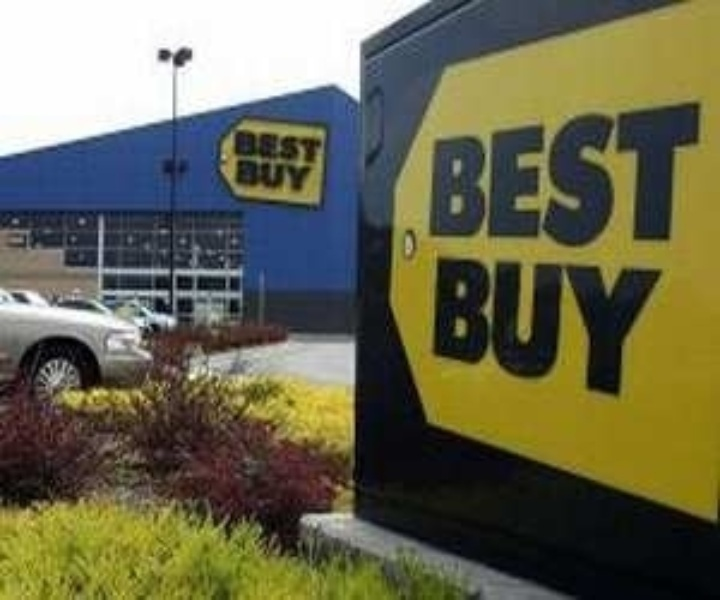text: (433, 97, 448, 253), (449, 97, 464, 253), (465, 97, 480, 253), (481, 97, 496, 253), (497, 97, 512, 253), (513, 97, 528, 253), (529, 97, 544, 253), (545, 97, 560, 253), (561, 97, 576, 253), (577, 97, 592, 253), (593, 97, 608, 253), (609, 97, 624, 253), (625, 97, 640, 253), (641, 97, 656, 253), (657, 97, 672, 253), (673, 97, 688, 253), (449, 253, 464, 401), (465, 253, 480, 401), (481, 253, 496, 401), (497, 253, 512, 401), (513, 253, 528, 401), (529, 253, 544, 401), (545, 253, 560, 401), (561, 253, 576, 401), (577, 253, 592, 401), (593, 253, 608, 401), (609, 253, 624, 401), (625, 253, 640, 401), (641, 253, 656, 401), (435, 253, 448, 401), (689, 97, 701, 253), (657, 253, 668, 401), (241, 128, 256, 166), (257, 128, 272, 166), (273, 128, 288, 166), (289, 128, 304, 166), (305, 128, 320, 166), (241, 157, 256, 193), (257, 157, 272, 193), (273, 157, 288, 193), (289, 157, 304, 193), (305, 157, 313, 193), (233, 128, 240, 166), (321, 128, 325, 166), (236, 157, 240, 193)
